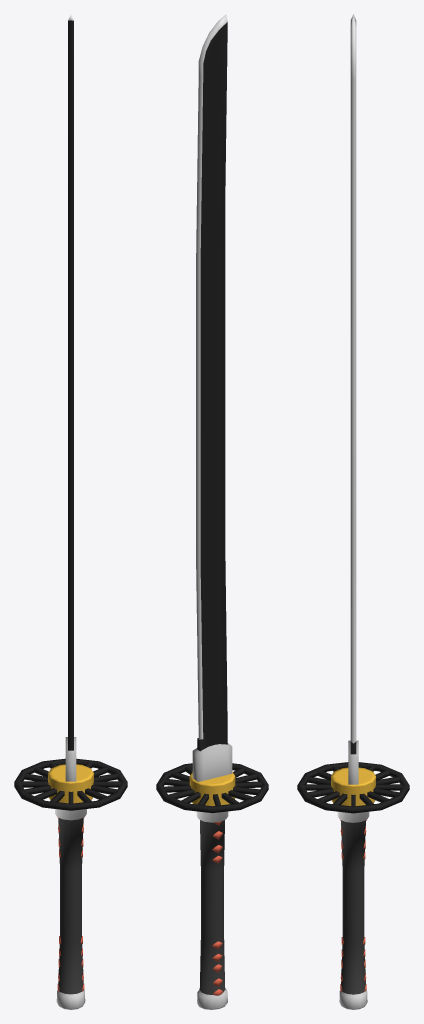
File: Espada_01.fbx
3 renders of one model, left to right at view 1: azimuth 90°, elevation 25°; view 2: azimuth 210°, elevation 25°; view 3: azimuth 270°, elevation 25°, orthographic.
Visible parts, largest first — view 1: Espada_01; view 2: Espada_01; view 3: Espada_01.
Part boxes in pixels (x1=…): Espada_01: x1=14, y1=14, x2=127, y2=1009; Espada_01: x1=156, y1=14, x2=268, y2=1009; Espada_01: x1=297, y1=14, x2=409, y2=1009.
Size of the model in its own units: 42.25 by 409 by 42.25.
